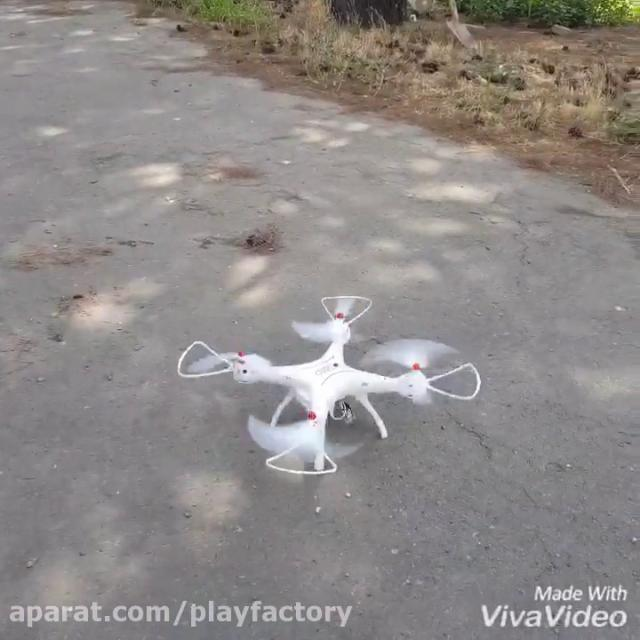drone: (174, 293, 482, 479)
